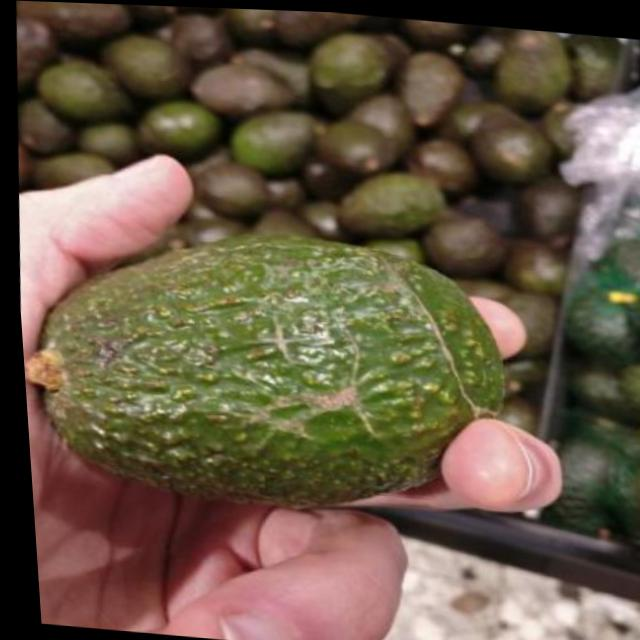Avocado: (11, 204, 544, 527)
